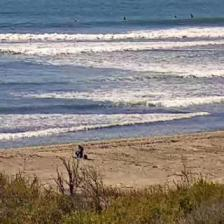surfer: (190, 14, 194, 19), (73, 19, 78, 23), (174, 15, 178, 19), (122, 17, 126, 21)
